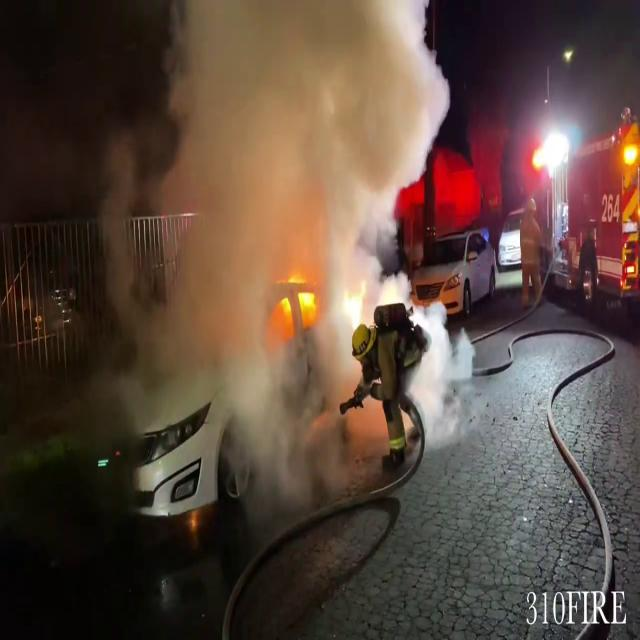Fire: (340, 272, 370, 338)
Smoke: (90, 0, 440, 424)
